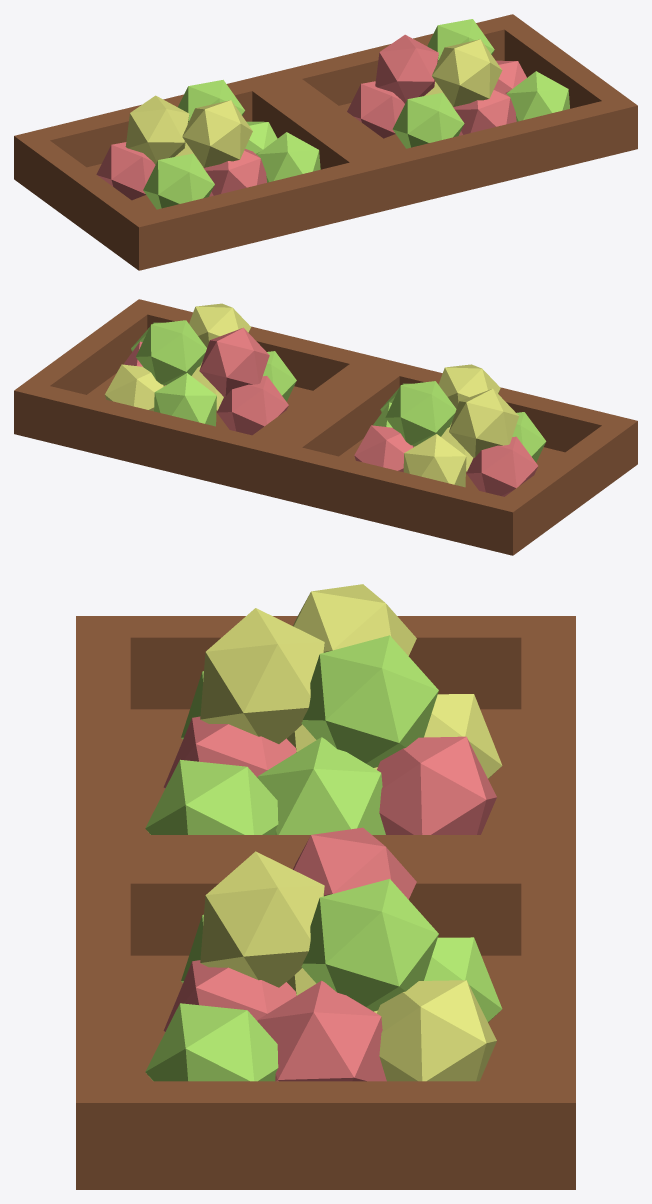
Rendered from food.fbx.
3 views of the same model, one above another, from view 1: azimuth 30°, elevation 25°; view 2: azimuth 150°, elevation 25°; view 3: azimuth 270°, elevation 25° (orthographic). The views are drawn at different scales.
Visible parts, largest first — view 1: table_01_l.001; view 2: table_01_l.001; view 3: table_01_l.001.
Part boxes in pixels (x1,y1,x2,y2): table_01_l.001: [14, 14, 637, 270]; table_01_l.001: [14, 299, 637, 555]; table_01_l.001: [76, 584, 575, 1189].
Bounding box in the file's own units: 1.41 × 0.2759 × 0.6107.
4 materials, 4 textured.
